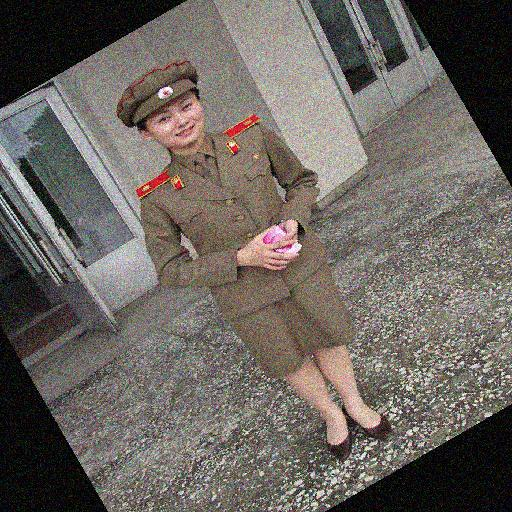north army: (100, 54, 431, 464)
